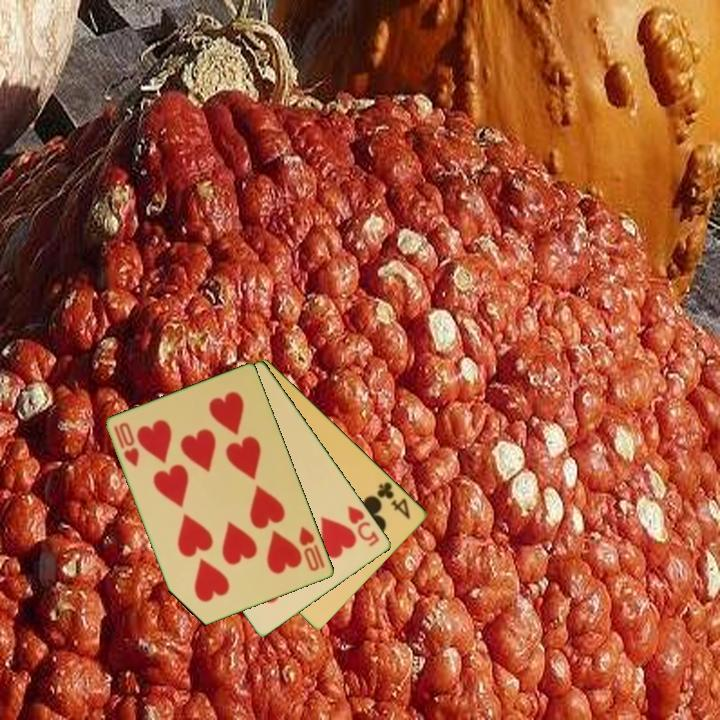10h: (110, 419, 143, 470), (296, 523, 328, 574)
4c: (374, 478, 414, 522)
5h: (344, 502, 383, 549)
